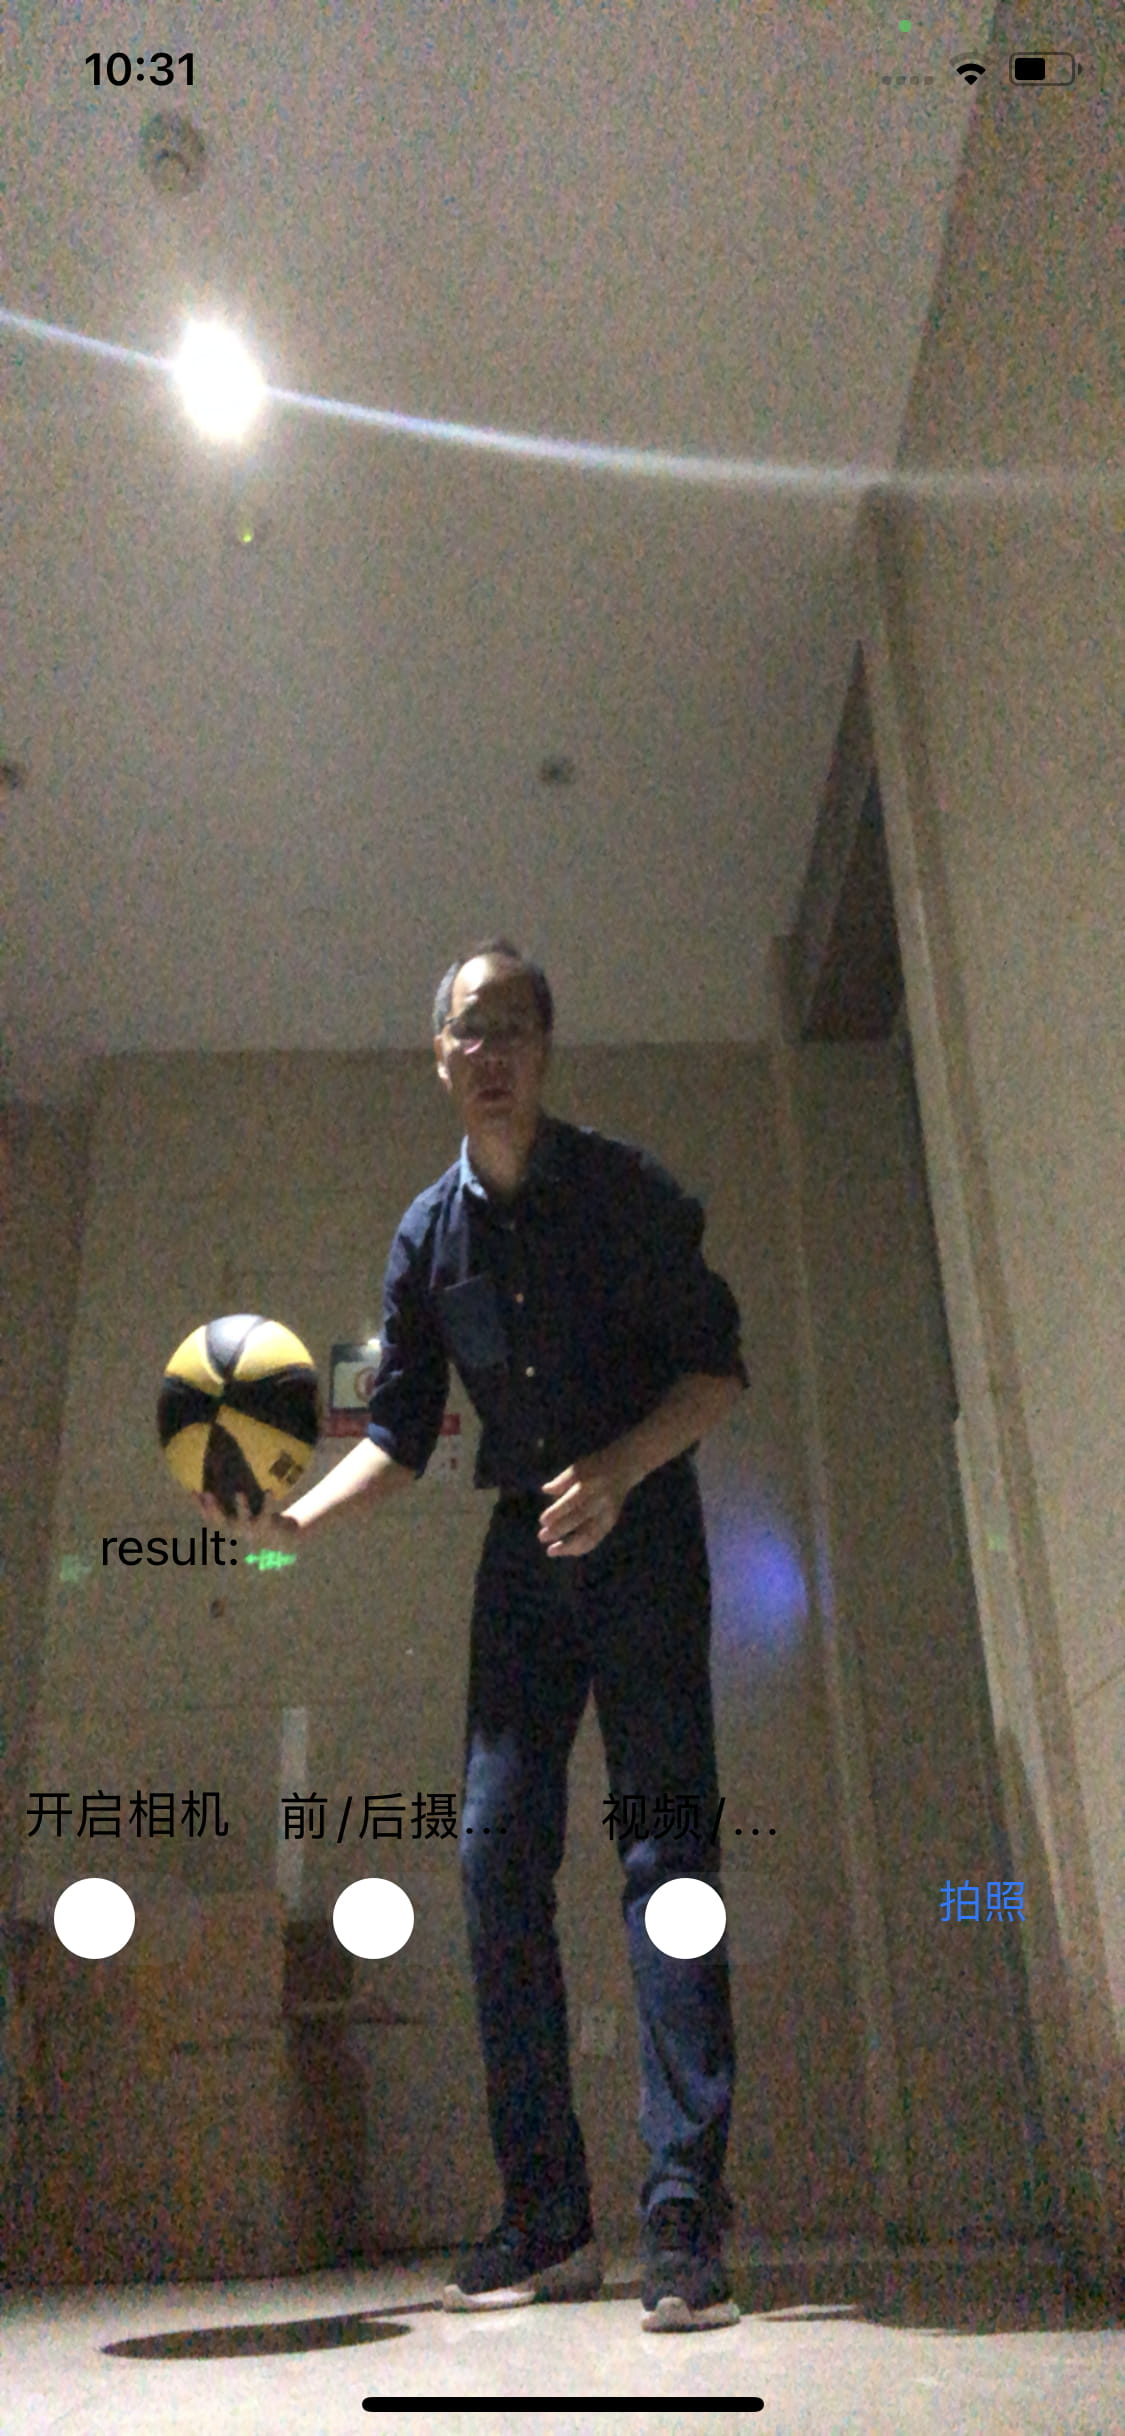ball: (154, 1313, 325, 1509)
